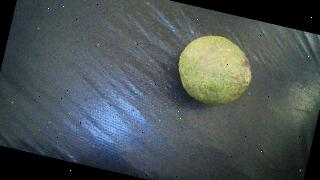DESECHO: (171, 29, 258, 112)
